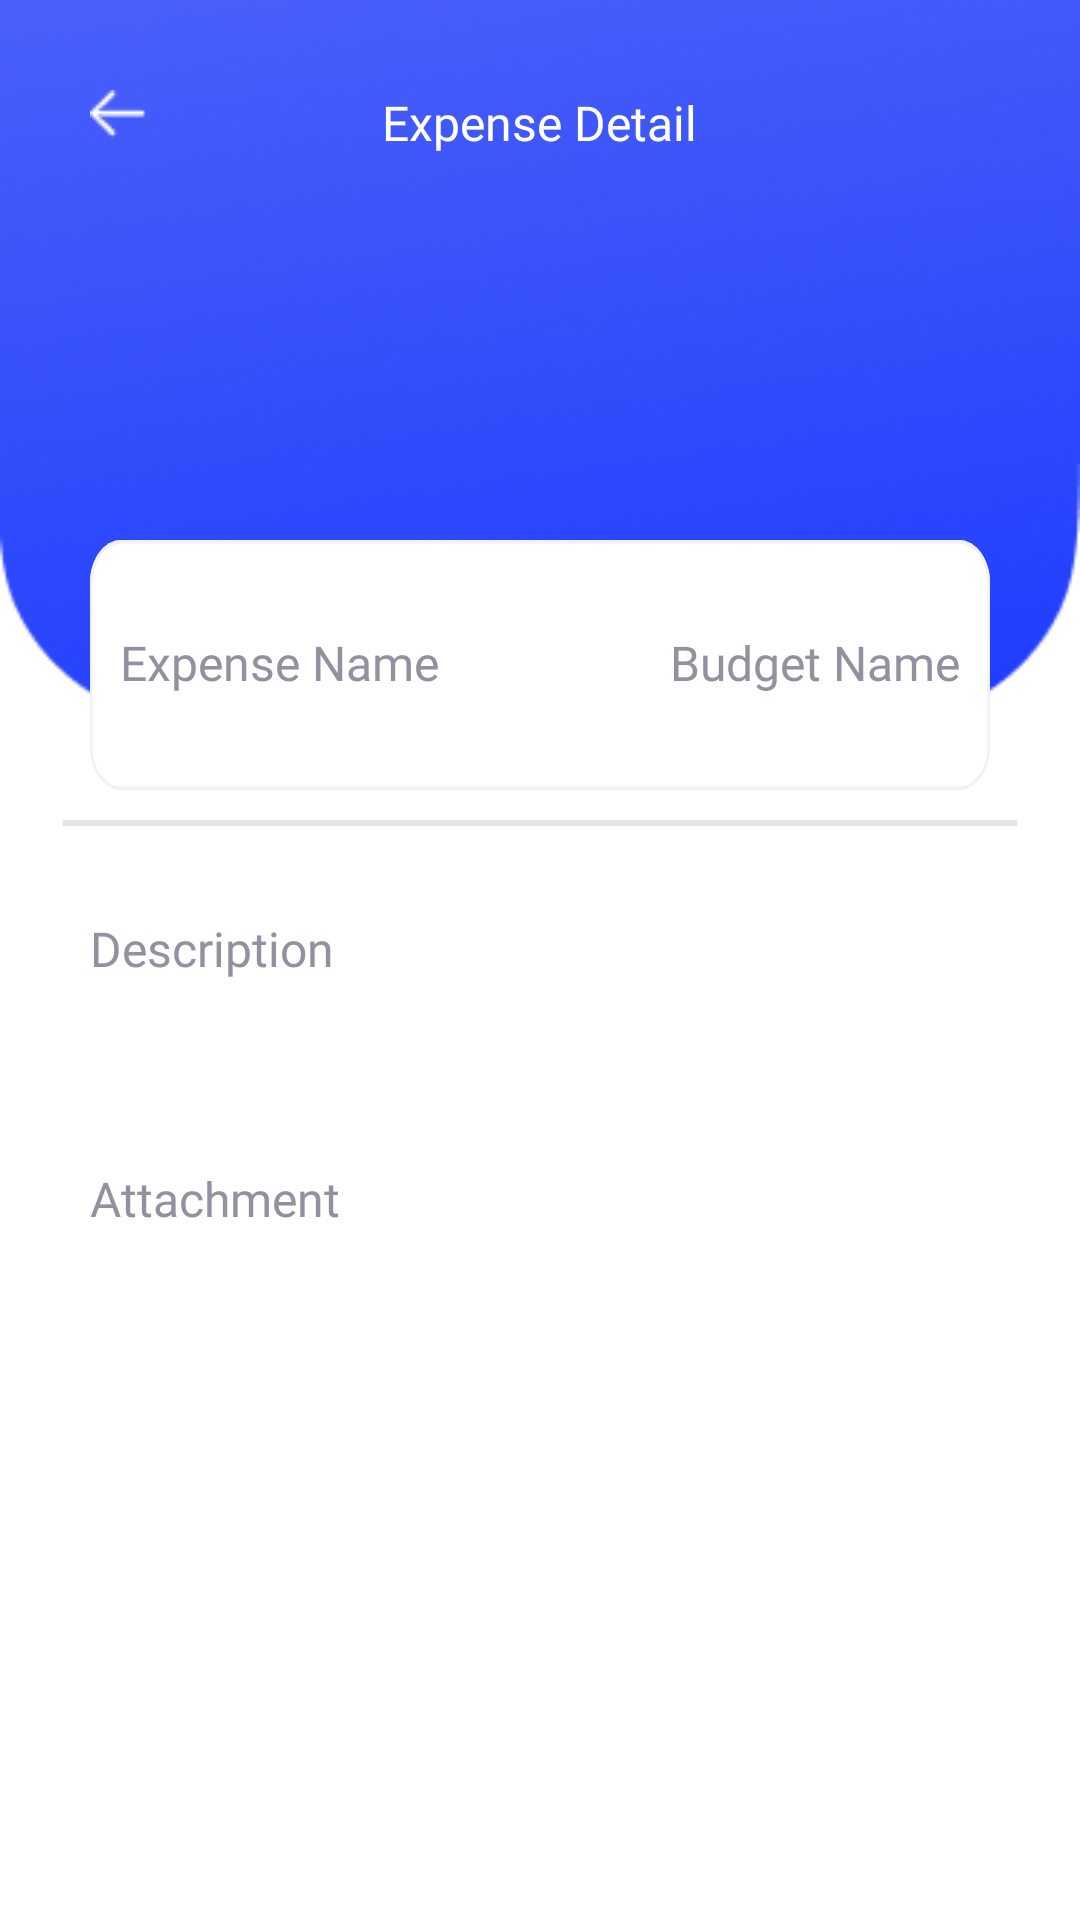

Locate icon controls on the screen. Image size 1080px×1920px, boxes as (x1, y1, x2, y2).
back: (90, 90, 145, 136)
